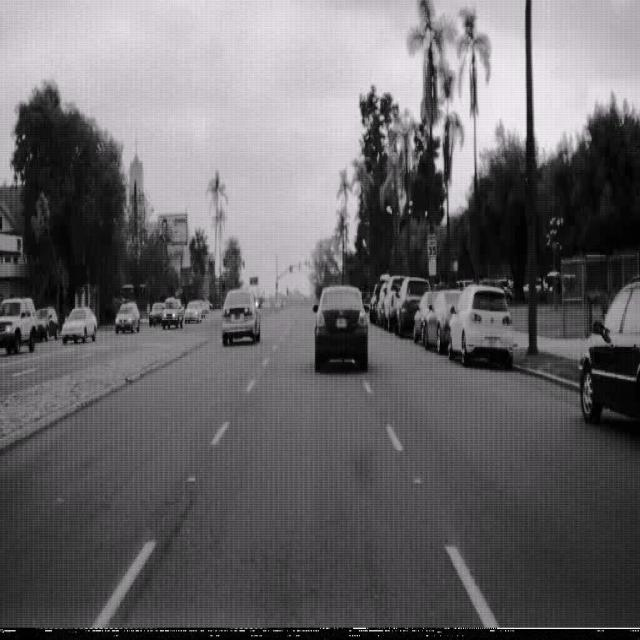speedLimit35: (426, 233, 437, 257)
